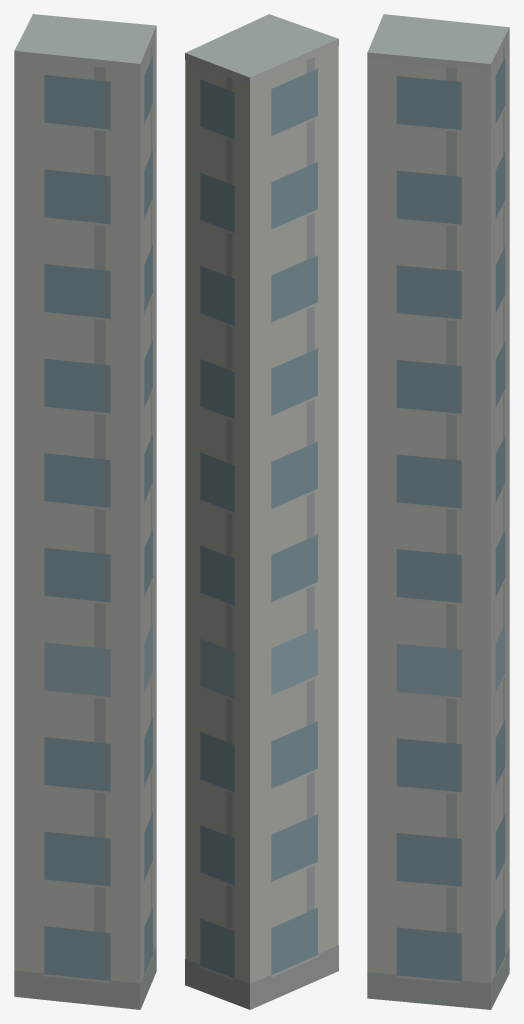
The model's file is survey-upis-32653609.glb.
The picture shows the model from 3 angles, left to right: view 1: azimuth 90°, elevation 25°; view 2: azimuth 150°, elevation 25°; view 3: azimuth 270°, elevation 25°; orthographic projection.
Parts seen in each view (by area): view 1: survey-upis-32653609.tmp; view 2: survey-upis-32653609.tmp; view 3: survey-upis-32653609.tmp.
Part boxes in pixels (<box>): survey-upis-32653609.tmp: <box>14,14,156,1009</box>; survey-upis-32653609.tmp: <box>185,14,338,1009</box>; survey-upis-32653609.tmp: <box>367,14,509,1009</box>.
Bounding box in the file's own units: 3.46 × 30.5 × 4.16.
